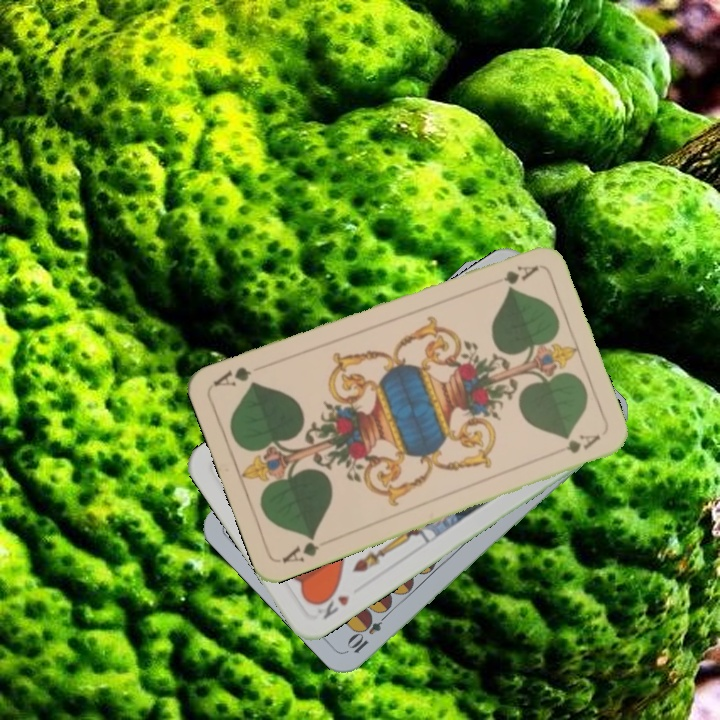E10: (345, 607, 393, 656)
GA: (483, 261, 541, 289), (277, 531, 322, 566)
HK: (310, 585, 353, 622)
